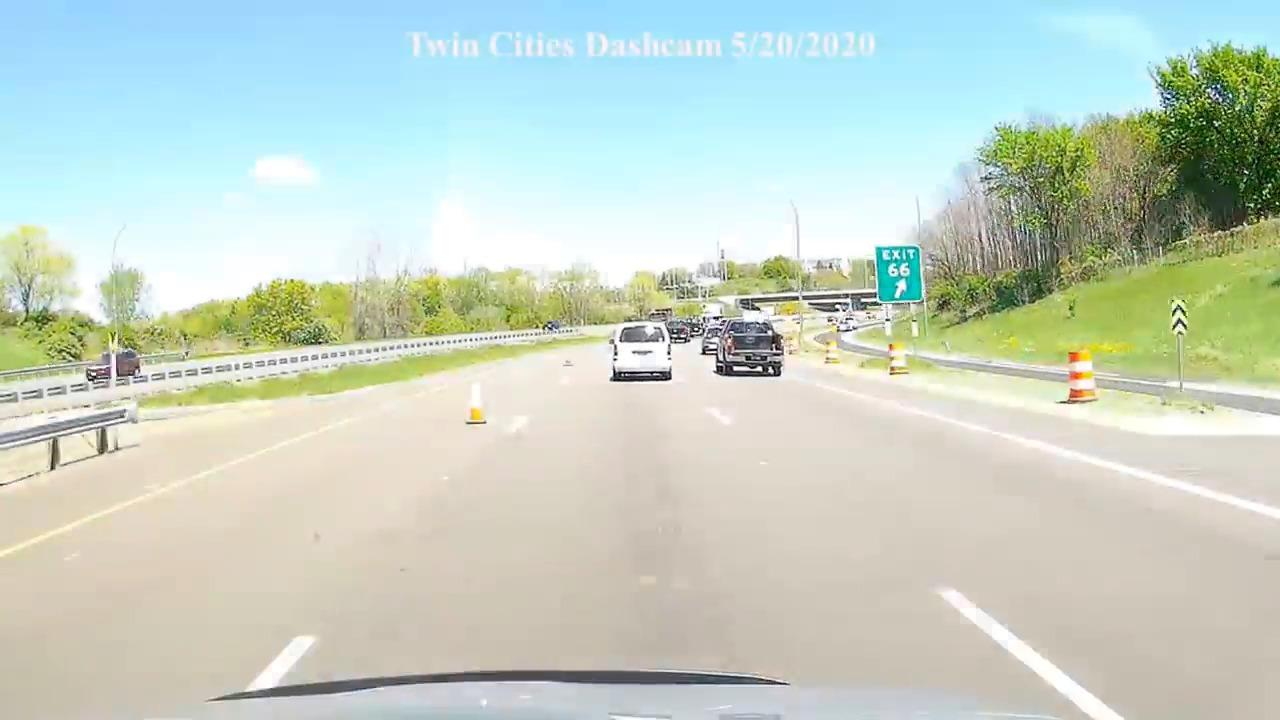car: (714, 319, 785, 377), (609, 321, 674, 382), (86, 349, 142, 384)
traffic cone: (1056, 349, 1099, 405), (464, 383, 488, 427)
